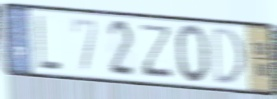2: (106, 18, 137, 80)
7: (69, 16, 99, 75)
D: (211, 24, 246, 87)
L: (35, 13, 64, 74)
O: (174, 22, 211, 86)
Z: (140, 22, 174, 80)
